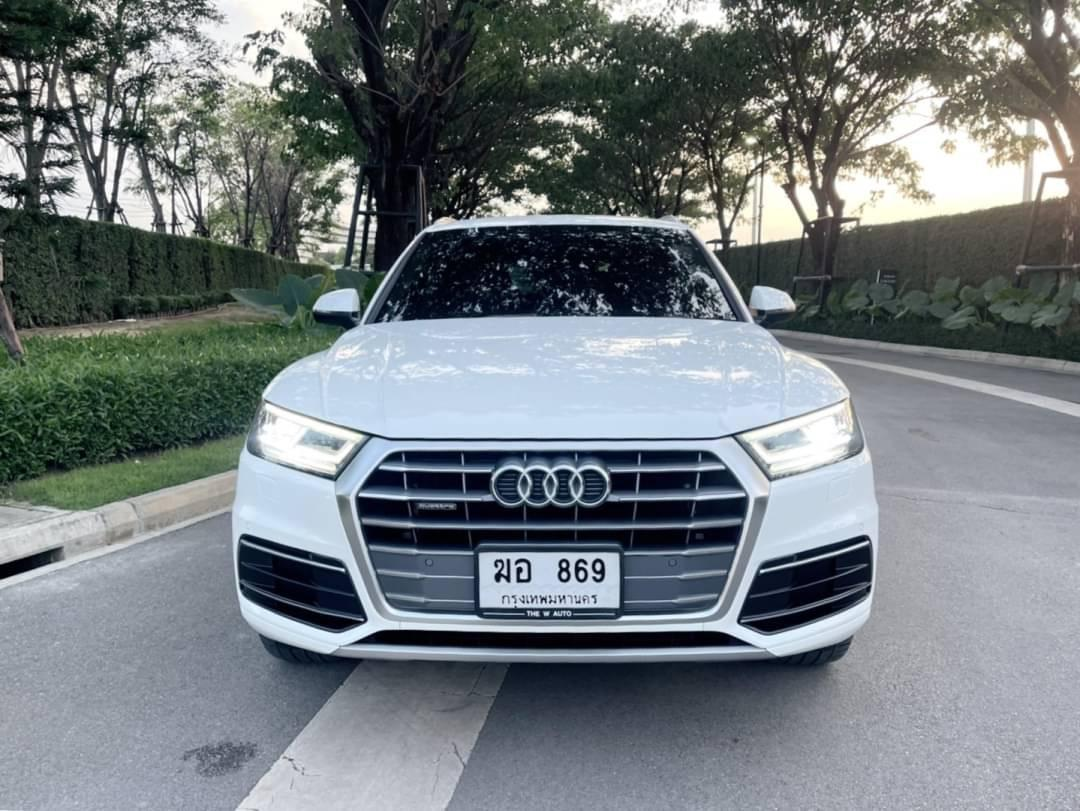license-plate: (472, 536, 625, 624)
